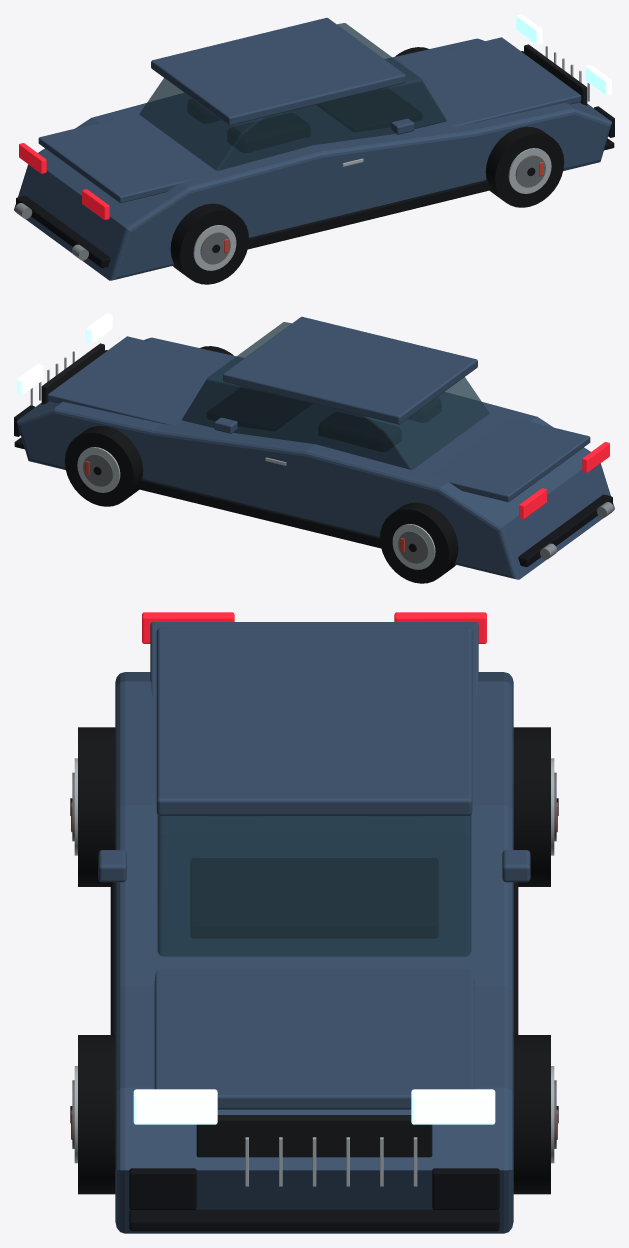
The model's file is rr_wraith.glb.
3 views of the same model, one above another, from view 1: azimuth 30°, elevation 25°; view 2: azimuth 150°, elevation 25°; view 3: azimuth 270°, elevation 25° (orthographic). The views are drawn at different scales.
Parts seen in each view (by area): view 1: sculpted_body, roof, glasshouse, hood_center, rear_deck, rear_right_wheel_tire, front_right_wheel_tire, side_skirt_1, dashboard, seat_1, rear_diffuser, front_grille (+9 smaller); view 2: sculpted_body, roof, glasshouse, hood_center, rear_deck, rear_left_wheel_tire, front_left_wheel_tire, side_skirt_-1, dashboard, seat_-1, rear_diffuser, front_grille (+9 smaller); view 3: sculpted_body, roof, glasshouse, hood_center, dashboard, front_grille, front_splitter, front_left_wheel_tire, front_right_wheel_tire, rear_left_wheel_tire, rear_right_wheel_tire, headlight_left (+10 smaller).
Boxes of the visible parts, x1=… form: sculpted_body: x1=14, y1=38, x2=611, y2=280; roof: x1=151, y1=17, x2=405, y2=125; glasshouse: x1=139, y1=23, x2=447, y2=170; hood_center: x1=392, y1=37, x2=581, y2=126; rear_deck: x1=38, y1=118, x2=198, y2=203; rear_right_wheel_tire: x1=170, y1=203, x2=248, y2=284; front_right_wheel_tire: x1=485, y1=126, x2=564, y2=207; side_skirt_1: x1=247, y1=180, x2=491, y2=249; dashboard: x1=317, y1=88, x2=421, y2=131; seat_1: x1=228, y1=113, x2=309, y2=152; rear_diffuser: x1=16, y1=195, x2=110, y2=268; front_grille: x1=524, y1=44, x2=587, y2=105; sculpted_body: x1=17, y1=337, x2=614, y2=579; roof: x1=223, y1=316, x2=477, y2=424; glasshouse: x1=181, y1=322, x2=489, y2=469; hood_center: x1=47, y1=336, x2=236, y2=425; rear_deck: x1=430, y1=417, x2=590, y2=502; rear_left_wheel_tire: x1=380, y1=502, x2=458, y2=583; front_left_wheel_tire: x1=64, y1=425, x2=143, y2=506; side_skirt_-1: x1=137, y1=479, x2=381, y2=548; dashboard: x1=207, y1=387, x2=311, y2=430; seat_-1: x1=319, y1=412, x2=400, y2=451; rear_diffuser: x1=518, y1=494, x2=612, y2=567; front_grille: x1=41, y1=343, x2=104, y2=404; sculpted_body: x1=115, y1=672, x2=513, y2=1233; roof: x1=156, y1=628, x2=472, y2=815; glasshouse: x1=157, y1=815, x2=471, y2=956; hood_center: x1=154, y1=969, x2=474, y2=1109; dashboard: x1=191, y1=858, x2=437, y2=937; front_grille: x1=196, y1=1115, x2=432, y2=1157; front_splitter: x1=129, y1=1209, x2=499, y2=1231; front_left_wheel_tire: x1=513, y1=1035, x2=550, y2=1194; front_right_wheel_tire: x1=78, y1=1035, x2=115, y2=1194; rear_left_wheel_tire: x1=513, y1=727, x2=550, y2=886; rear_right_wheel_tire: x1=78, y1=727, x2=115, y2=886; headlight_left: x1=411, y1=1089, x2=495, y2=1124.
Bounding box in the file's own units: 5.63 × 1.46 × 2.26.
